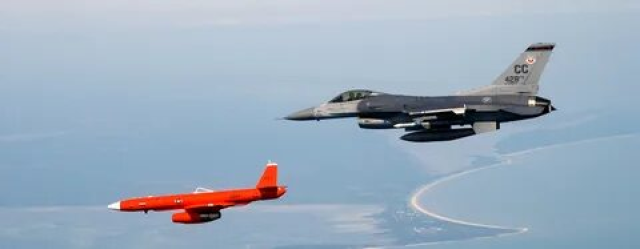military drone: (272, 42, 559, 142), (107, 159, 288, 223)
